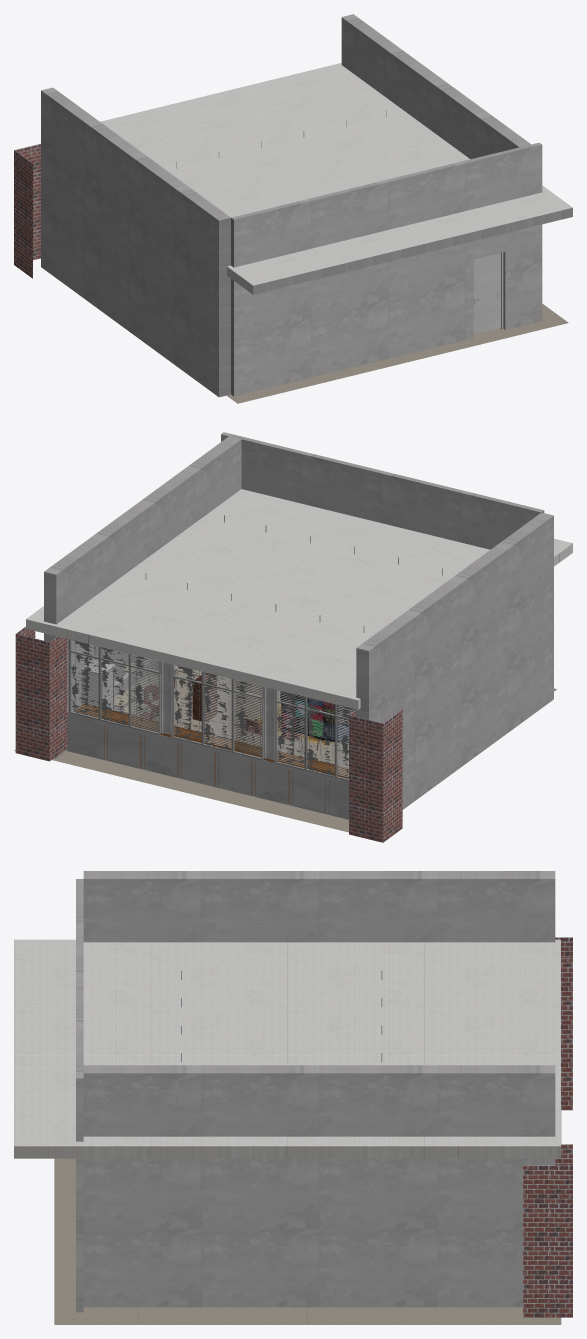
The model's file is Classroom.fbx.
3 renders of one model, top to bottom at view 1: azimuth 30°, elevation 25°; view 2: azimuth 150°, elevation 25°; view 3: azimuth 270°, elevation 25°, orthographic. The views are drawn at different scales.
Parts seen in each view (by area): view 1: Cube.024, Cube.014, Cube.022, Cube.010, Cube.009, Cube.019; view 2: Cube.022, Cube.024, Cube.014, Cube.010, Cube.017, Cube.009, Cube.029, Cube.015, Cube.018, Cube.016, Cube.002, Plane (+10 smaller); view 3: Cube.024, Cube.022, Cube.009, Cube.010, Cube.014.
Part boxes in pixels (left/top/right/bottom): Cube.024: left=41, top=14, right=530, bottom=397; Cube.014: left=231, top=142, right=542, bottom=396; Cube.022: left=100, top=63, right=572, bottom=294; Cube.010: left=14, top=143, right=40, bottom=278; Cube.009: left=227, top=303, right=568, bottom=403; Cube.019: left=474, top=253, right=500, bottom=334; Cube.022: left=26, top=489, right=572, bottom=709; Cube.024: left=44, top=436, right=553, bottom=809; Cube.014: left=221, top=432, right=544, bottom=549; Cube.010: left=15, top=626, right=402, bottom=842; Cube.017: left=67, top=712, right=348, bottom=819; Cube.009: left=14, top=670, right=556, bottom=832; Cube.029: left=68, top=639, right=161, bottom=734; Cube.015: left=171, top=664, right=264, bottom=759; Cube.018: left=274, top=689, right=354, bottom=780; Cube.016: left=73, top=704, right=348, bottom=813; Cube.002: left=159, top=661, right=275, bottom=762; Plane: left=280, top=692, right=355, bottom=742; Cube.024: left=83, top=871, right=555, bottom=1307; Cube.022: left=14, top=939, right=560, bottom=1158; Cube.009: left=54, top=1111, right=561, bottom=1324; Cube.010: left=523, top=937, right=572, bottom=1317; Cube.014: left=76, top=879, right=83, bottom=1312.
Bounding box in the file's own units: 943 × 458 × 958.
4 materials, 4 textured.
